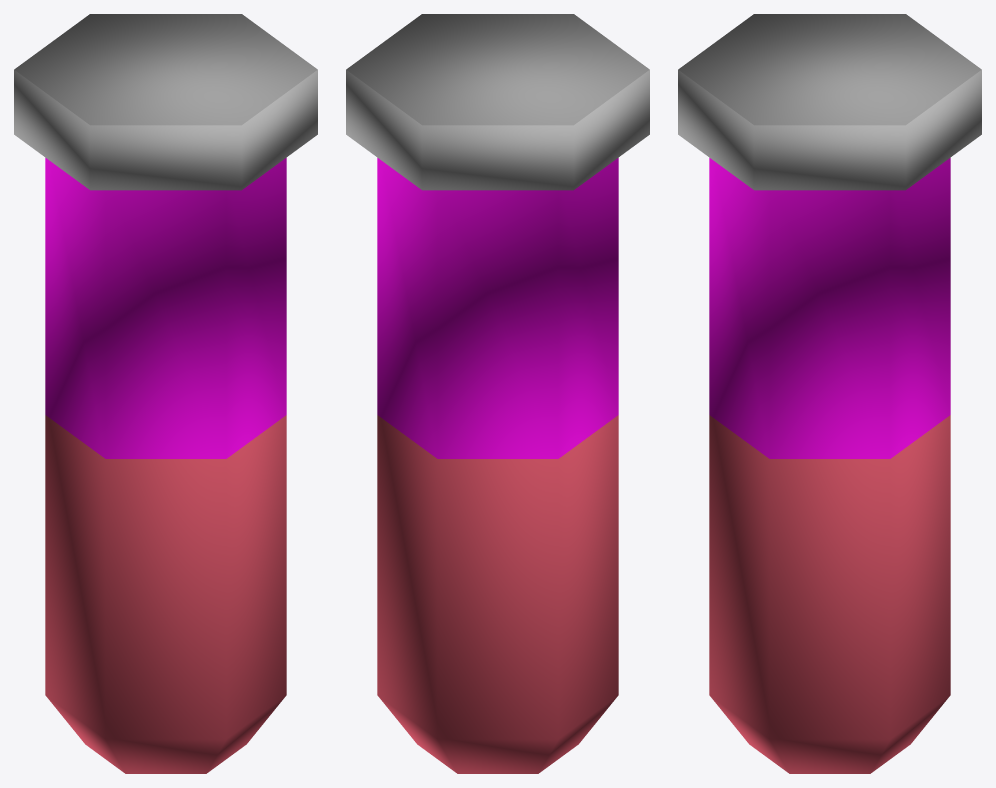
Rendered from Coin Extract Vial Red.fbx.
3 renders of one model, left to right at view 1: azimuth 30°, elevation 25°; view 2: azimuth 150°, elevation 25°; view 3: azimuth 270°, elevation 25°, orthographic.
Visible parts, largest first — view 1: Cylinder; view 2: Cylinder; view 3: Cylinder.
Boxes of the visible parts, left/top/right/bottom form: Cylinder: left=14, top=14, right=317, bottom=773; Cylinder: left=346, top=14, right=649, bottom=773; Cylinder: left=678, top=14, right=981, bottom=773.
Size of the model in its own units: 218 by 617 by 252.
